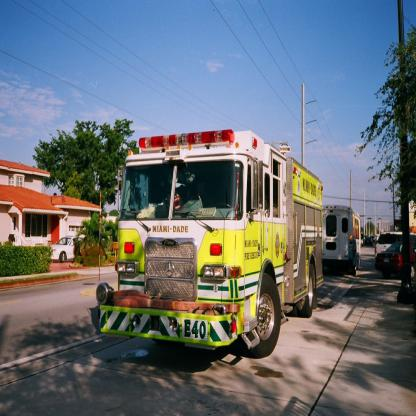Car: (376, 239, 416, 277)
Truck: (110, 119, 328, 375), (322, 202, 360, 277)
